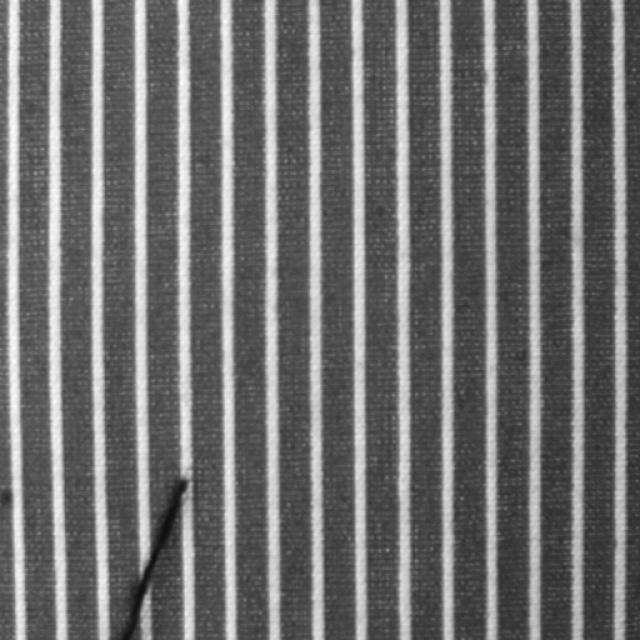Foreign-Body-Defect: (119, 479, 188, 639)
